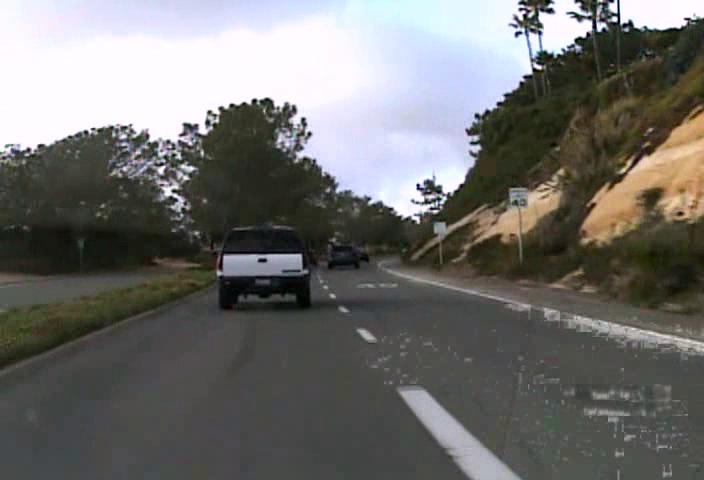speedLimit40: (508, 186, 528, 208)
